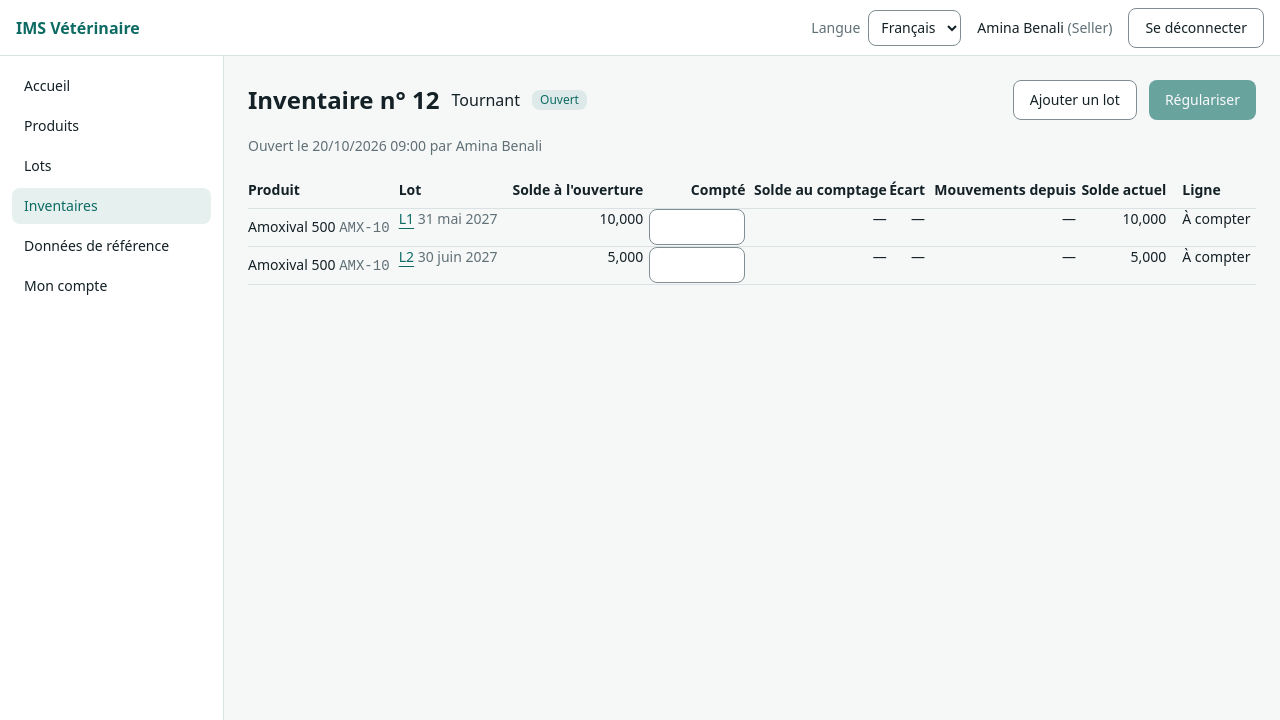
Test: inventory counts (frontend.md §4.4, W5) › saves a counted cell with Enter, moves to the next one and shows the variance against the balance when counted
Type "9" into the field named "Quantité comptée — Amoxival 500 — L1".
click(697, 227); type("9")  # box [649, 209, 745, 245]
Then press Enter
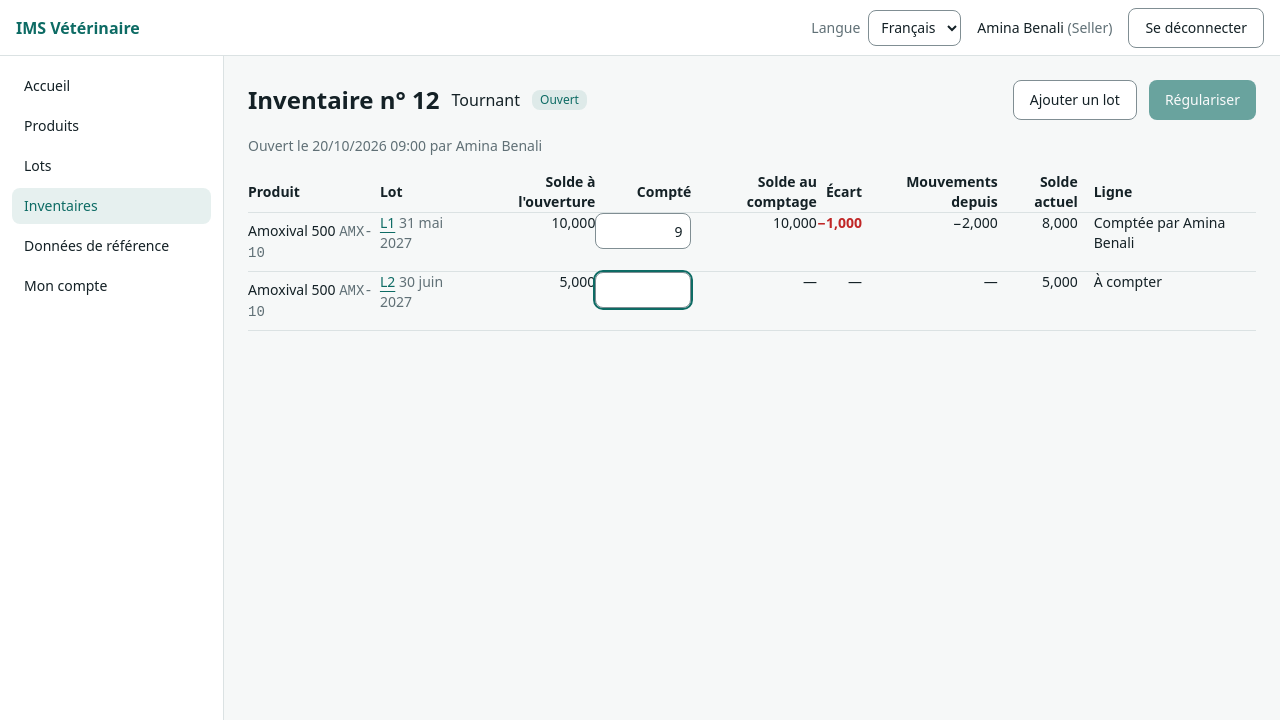
Expected: the text "−1,000" is shown, [817, 212, 862, 272]
Expected: the text "−2,000" is shown, [862, 212, 998, 272]
Expected: the text "8,000" is shown, [998, 212, 1078, 272]
